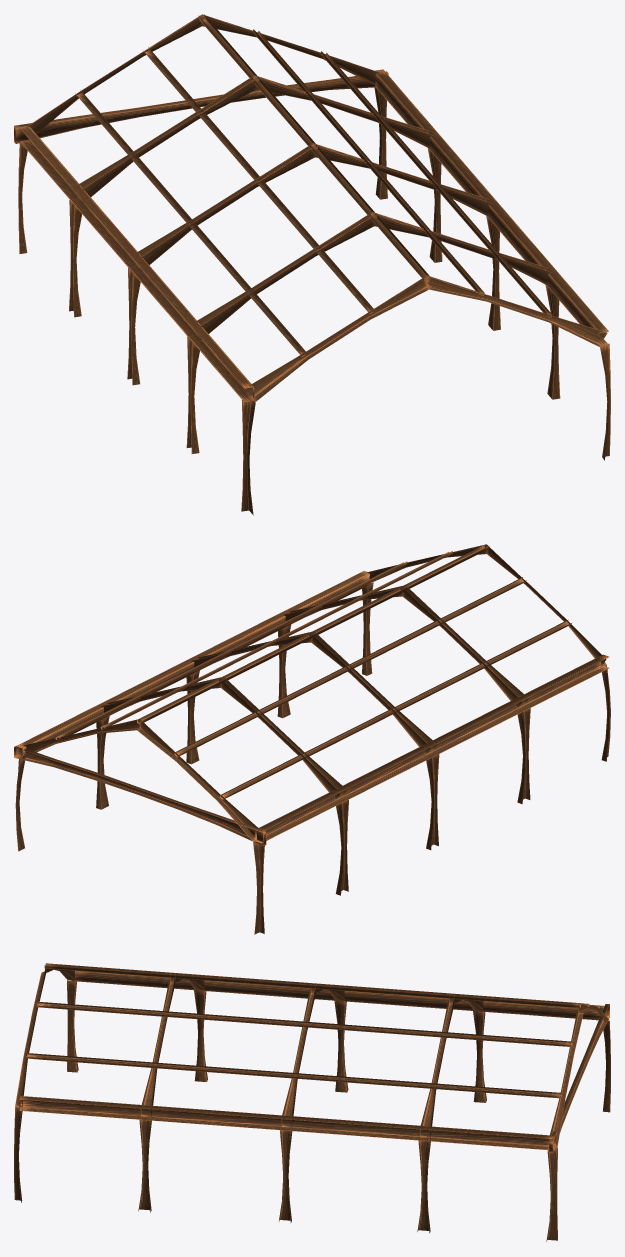
Rendered from HTOWN01_CHICKENCOOPINTRAFTERS.fbx.
The picture shows the model from 3 angles, top to bottom: view 1: azimuth 30°, elevation 25°; view 2: azimuth 150°, elevation 25°; view 3: azimuth 270°, elevation 25°; orthographic projection. The views are drawn at different scales.
Parts seen in each view (by area): view 1: HTOWN01_CHICKENCOOPINTRAFTERS; view 2: HTOWN01_CHICKENCOOPINTRAFTERS; view 3: HTOWN01_CHICKENCOOPINTRAFTERS.
Boxes of the visible parts, box(x1,y1,x2,y2) form: HTOWN01_CHICKENCOOPINTRAFTERS: box(14, 14, 610, 515); HTOWN01_CHICKENCOOPINTRAFTERS: box(14, 544, 610, 934); HTOWN01_CHICKENCOOPINTRAFTERS: box(14, 963, 610, 1241).
Bounding box in the file's own units: 76871 × 35518 × 111103.
Materials: 1 (1 with a texture image).
